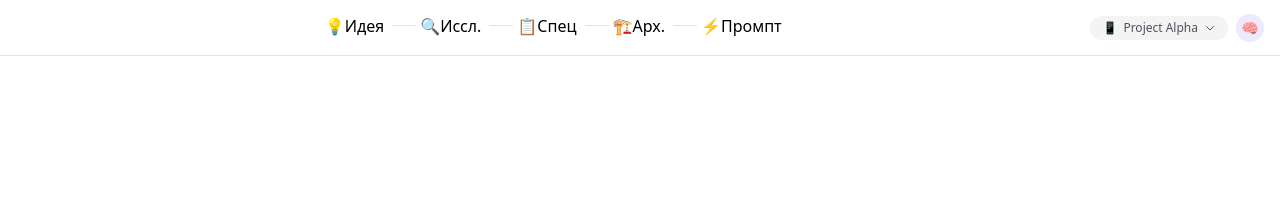
Scenario: C. Switching projects › closes the dropdown after selection
Click the button "📱 Project Alpha": (1159, 28) [1090, 16, 1228, 40]
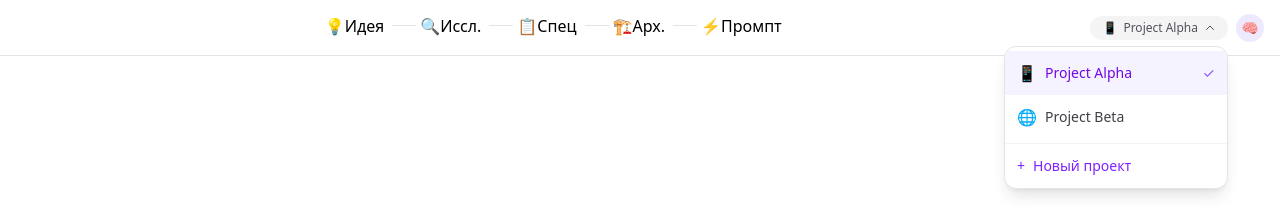
Click the option "🌐 Project Beta": (1116, 116) [1005, 94, 1227, 138]
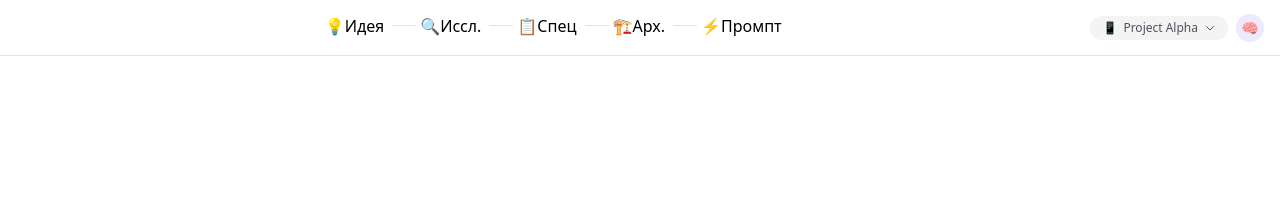
Now the list "📱 Project Alpha ✓ 🌐 Project Beta" is gone
